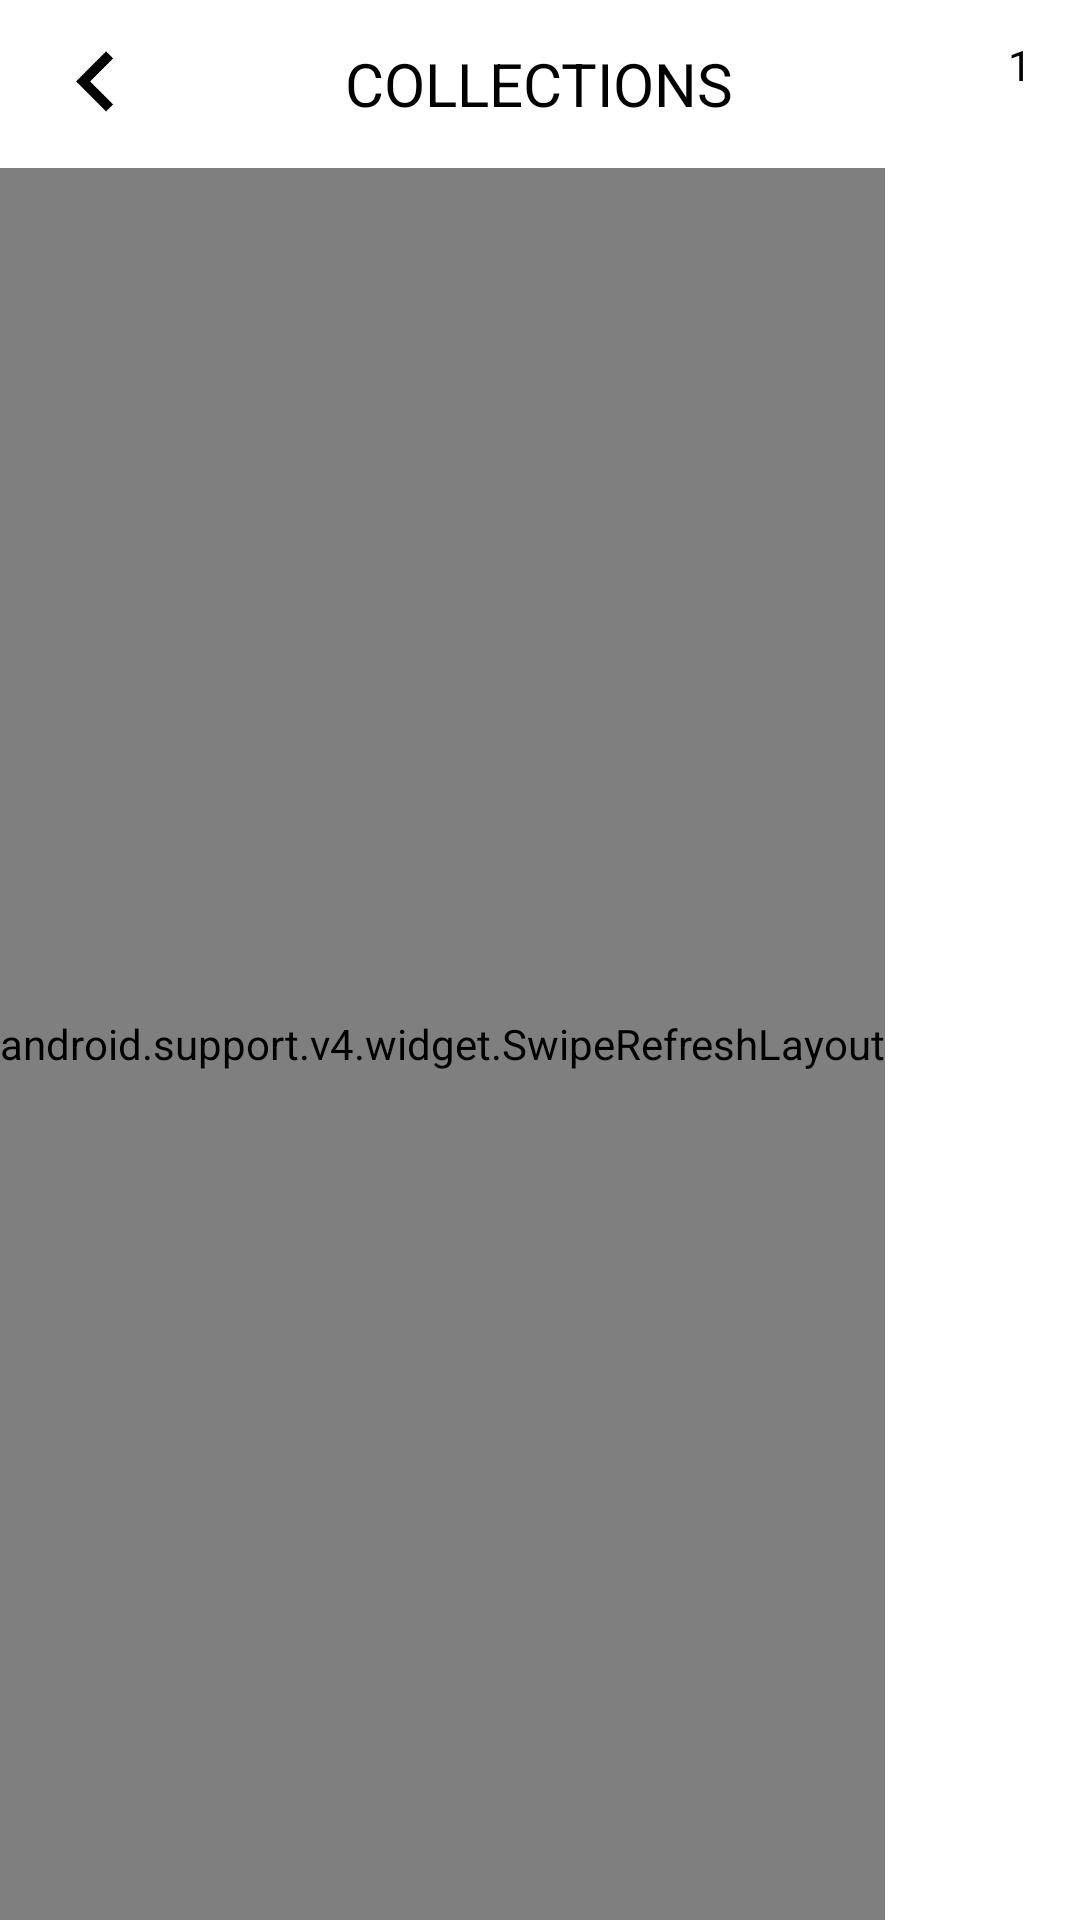

Icon click points for this 1080x1920 phone screenshot, format (x,y):
back: (94,81)
